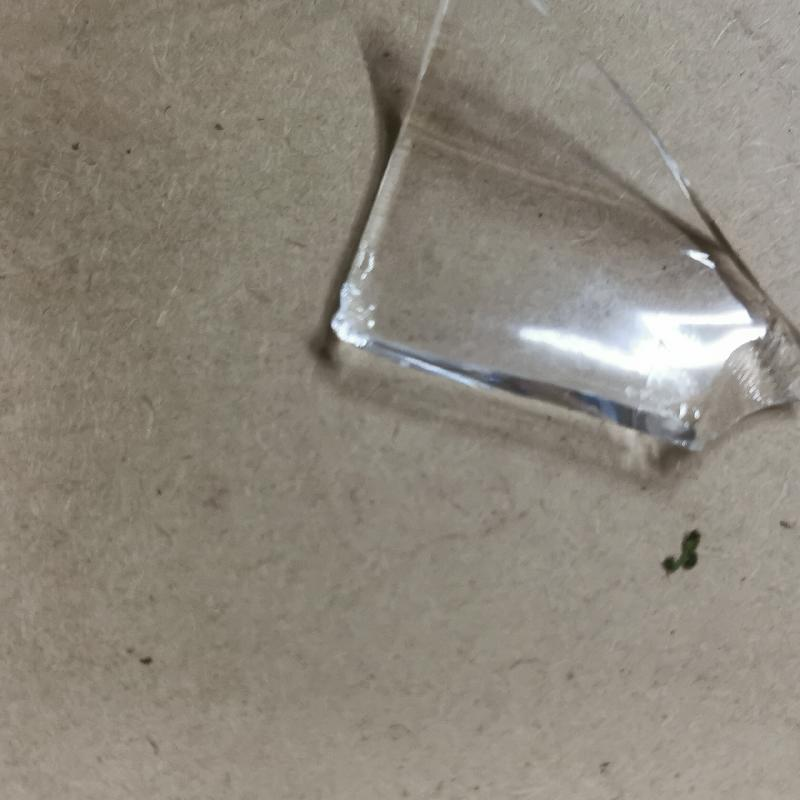glass: (325, 3, 800, 458)
